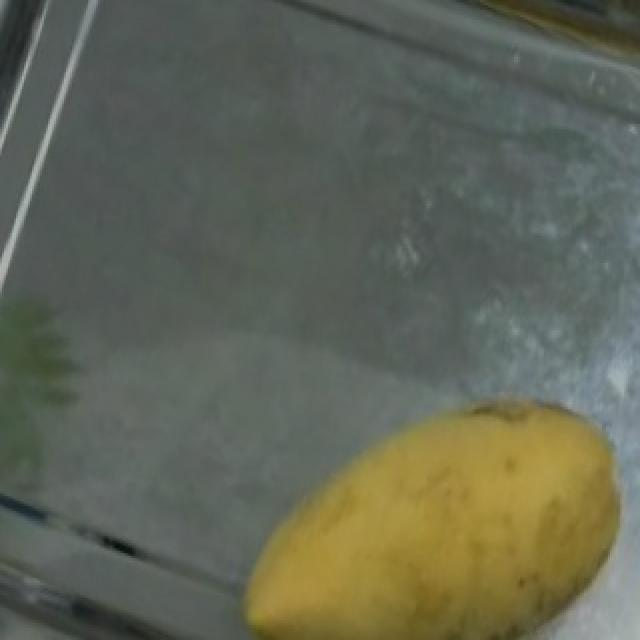fruit: (256, 364, 640, 640)
